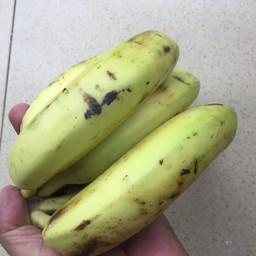Good_banana: (10, 30, 255, 254)
